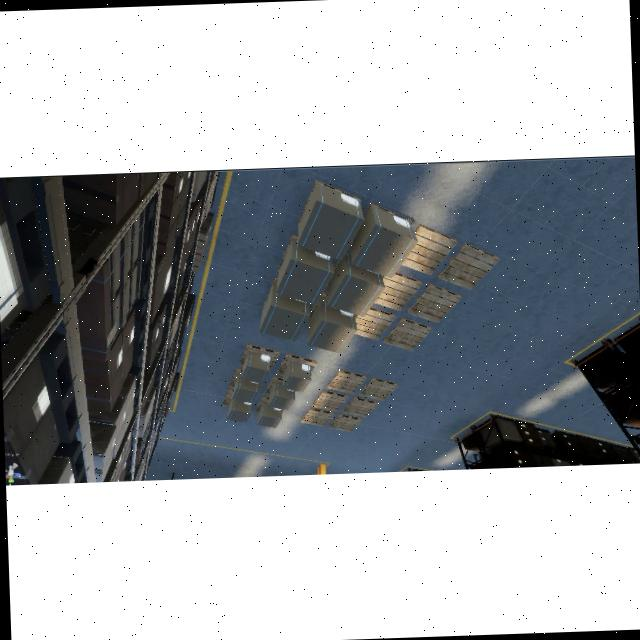wooden_pallet: (239, 343, 279, 371), (326, 369, 367, 394), (358, 377, 398, 401), (277, 353, 316, 376)
